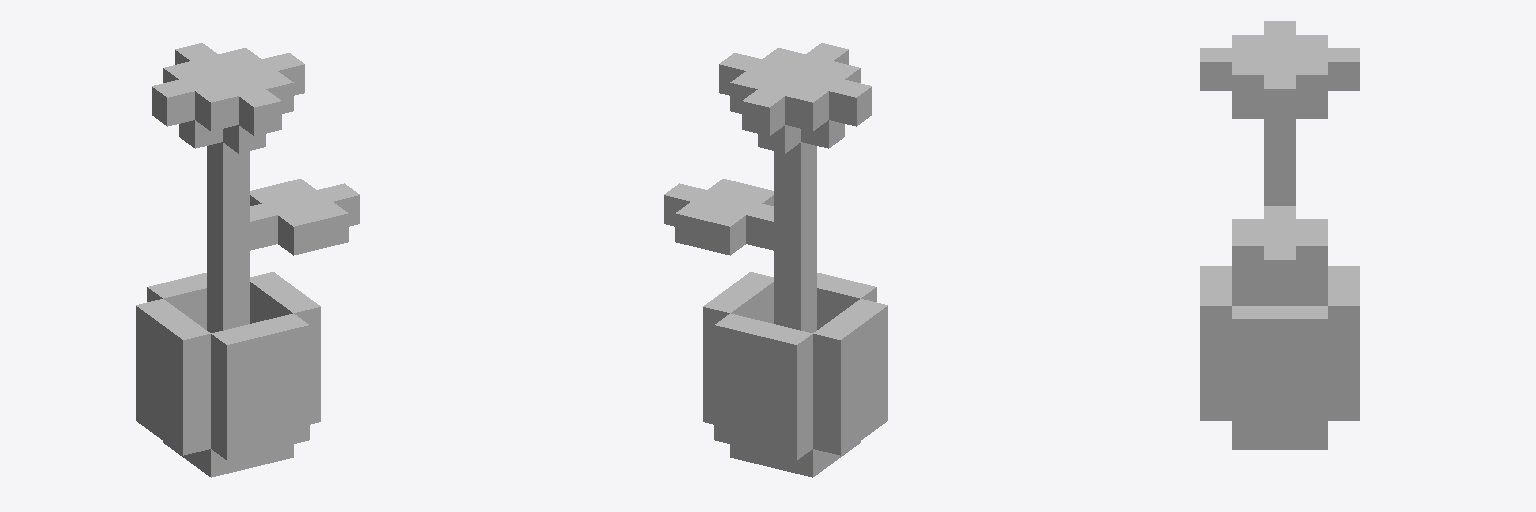
The model's file is obj_plant_flower.obj.
3 renders of one model, left to right at view 1: azimuth 30°, elevation 25°; view 2: azimuth 150°, elevation 25°; view 3: azimuth 270°, elevation 25°, orthographic.
Parts seen in each view (by area): view 1: obj_plant_flower; view 2: obj_plant_flower; view 3: obj_plant_flower.
Boxes of the visible parts, <box> form: obj_plant_flower: <box>136,43,359,477</box>; obj_plant_flower: <box>664,43,887,477</box>; obj_plant_flower: <box>1200,21,1359,449</box>.
Bounding box in the file's own units: 7 × 13 × 5.